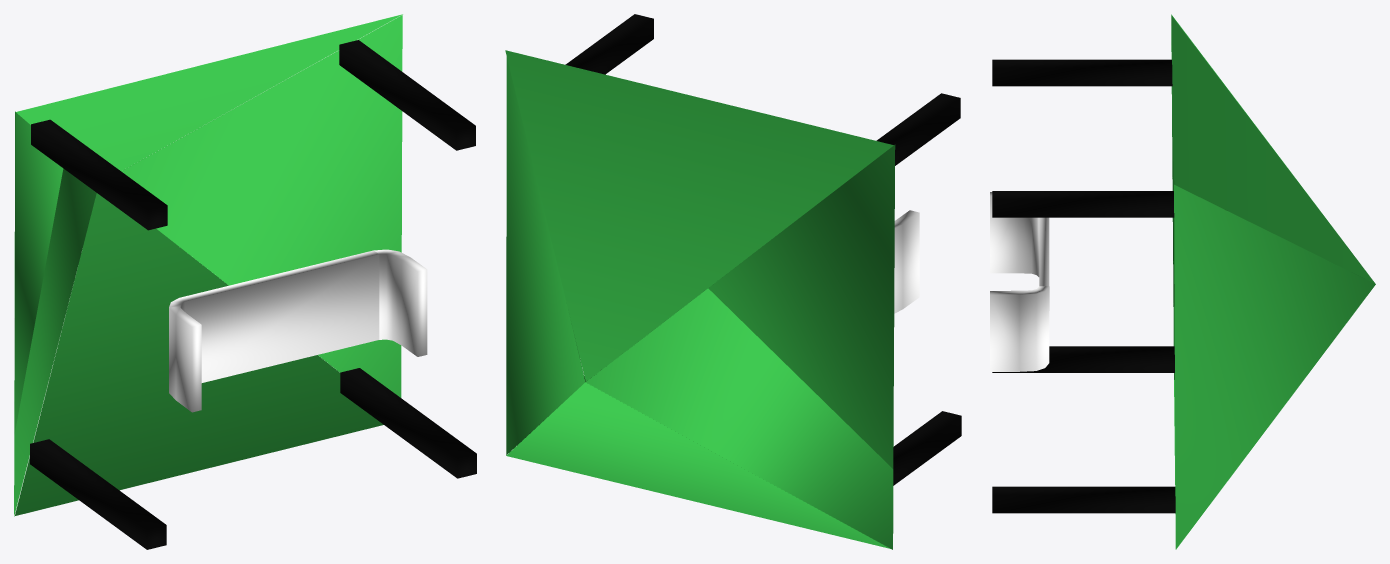
The model's file is BusStop.gltf.
3 renders of one model, left to right at view 1: azimuth 30°, elevation 25°; view 2: azimuth 150°, elevation 25°; view 3: azimuth 270°, elevation 25°, orthographic. The views are drawn at different scales.
Visible parts, largest first — view 1: Node1, Node6, Node2, Node4, Node5, Node3; view 2: Node1, Node4, Node3, Node2, Node6; view 3: Node1, Node6, Node5, Node4, Node3, Node2.
Part boxes in pixels (left/top/right/bottom): Node1: left=14, top=14, right=402, bottom=516; Node6: left=169, top=249, right=427, bottom=412; Node2: left=30, top=439, right=166, bottom=549; Node4: left=31, top=119, right=167, bottom=230; Node5: left=340, top=368, right=476, bottom=478; Node3: left=339, top=40, right=475, bottom=150; Node1: left=505, top=50, right=895, bottom=549; Node4: left=876, top=93, right=960, bottom=165; Node3: left=565, top=14, right=653, bottom=74; Node2: left=893, top=411, right=961, bottom=485; Node6: left=894, top=210, right=919, bottom=313; Node1: left=1171, top=14, right=1375, bottom=549; Node6: left=990, top=192, right=1049, bottom=371; Node5: left=992, top=486, right=1175, bottom=513; Node4: left=992, top=59, right=1172, bottom=86; Node3: left=992, top=191, right=1174, bottom=217; Node2: left=992, top=346, right=1174, bottom=372.
Bounding box in the file's own units: 4.02 × 4.01 × 3.83.
